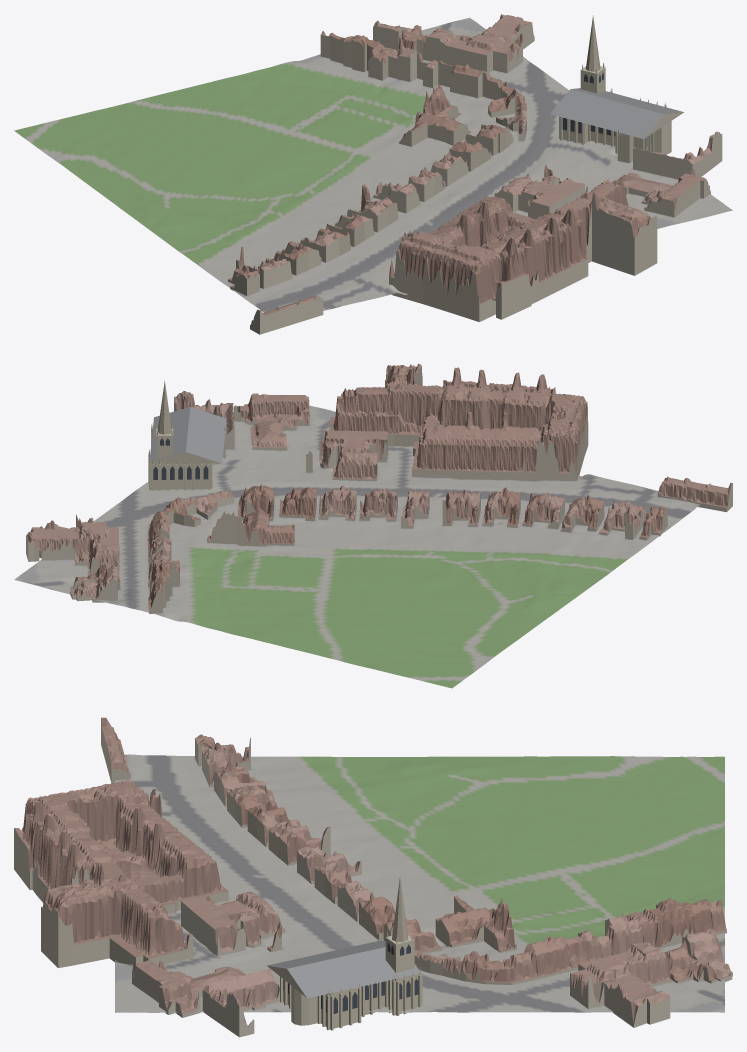
3 renders of one model, top to bottom at view 1: azimuth 30°, elevation 25°; view 2: azimuth 150°, elevation 25°; view 3: azimuth 270°, elevation 25°, orthographic. The views are drawn at different scales.
Visible parts, largest first — view 1: ground, b:way/127718988, b:way/33167535, b:way/1216816176, b:way/8115699, b:way/136299683, b:way/13221829, b:way/169855817, b:way/159704087, b:way/191546279, b:way/191546265, b:way/134800779 (+15 smaller); view 2: ground, b:way/127718988, b:way/33167535, b:way/8115699, b:way/136299683, b:way/1216816176, b:way/13221829, b:way/159704087, b:way/137151173, b:way/169855817, b:way/134800774, b:way/134800779 (+16 smaller); view 3: ground, b:way/127718988, b:way/33167535, b:way/1216816176, b:way/8115699, b:way/169855817, b:way/136299683, b:way/13221829, b:way/191546279, b:way/137151173, b:way/191546265, b:way/137151170 (+22 smaller).
Boxes of the visible parts, x1=… form: ground: x1=14, y1=17, x2=732, y2=312; b:way/127718988: x1=389, y1=179, x2=657, y2=321; b:way/33167535: x1=550, y1=15, x2=683, y2=163; b:way/1216816176: x1=440, y1=14, x2=534, y2=73; b:way/8115699: x1=494, y1=174, x2=587, y2=218; b:way/136299683: x1=615, y1=168, x2=710, y2=217; b:way/13221829: x1=399, y1=84, x2=470, y2=146; b:way/169855817: x1=633, y1=131, x2=722, y2=179; b:way/159704087: x1=250, y1=296, x2=323, y2=334; b:way/191546279: x1=343, y1=35, x2=382, y2=72; b:way/191546265: x1=450, y1=64, x2=487, y2=98; b:way/134800779: x1=373, y1=182, x2=420, y2=213; ground: x1=14, y1=405, x2=700, y2=688; b:way/127718988: x1=329, y1=363, x2=588, y2=481; b:way/33167535: x1=148, y1=380, x2=226, y2=490; b:way/8115699: x1=319, y1=430, x2=388, y2=481; b:way/136299683: x1=233, y1=393, x2=309, y2=450; b:way/1216816176: x1=26, y1=514, x2=118, y2=567; b:way/13221829: x1=207, y1=510, x2=294, y2=546; b:way/159704087: x1=657, y1=476, x2=732, y2=512; b:way/137151173: x1=70, y1=564, x2=117, y2=602; b:way/169855817: x1=174, y1=391, x2=234, y2=449; b:way/134800774: x1=279, y1=487, x2=316, y2=520; b:way/134800779: x1=401, y1=489, x2=429, y2=528; ground: x1=115, y1=754, x2=724, y2=1012; b:way/127718988: x1=14, y1=780, x2=228, y2=967; b:way/33167535: x1=267, y1=877, x2=422, y2=1030; b:way/1216816176: x1=570, y1=945, x2=670, y2=1027; b:way/8115699: x1=181, y1=891, x2=285, y2=955; b:way/169855817: x1=202, y1=968, x2=279, y2=1037; b:way/136299683: x1=132, y1=960, x2=245, y2=1017; b:way/13221829: x1=435, y1=895, x2=516, y2=952; b:way/191546279: x1=648, y1=898, x2=695, y2=948; b:way/137151173: x1=682, y1=928, x2=732, y2=981; b:way/191546265: x1=528, y1=936, x2=571, y2=979; b:way/137151170: x1=664, y1=939, x2=716, y2=983.
Size of the model in its own units: 287 by 62.97 by 295.
